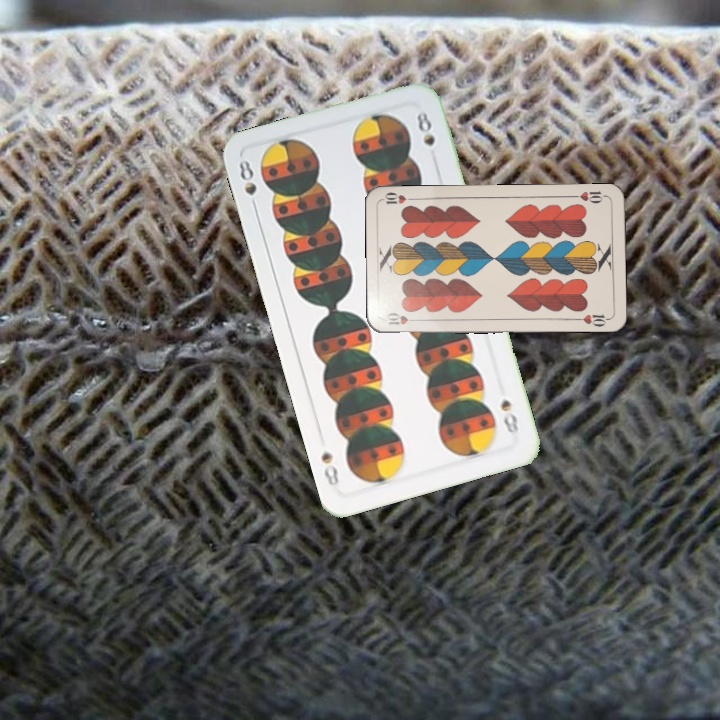H10: (568, 187, 609, 206), (382, 310, 422, 327)
S8: (235, 156, 260, 214), (496, 395, 521, 436)
